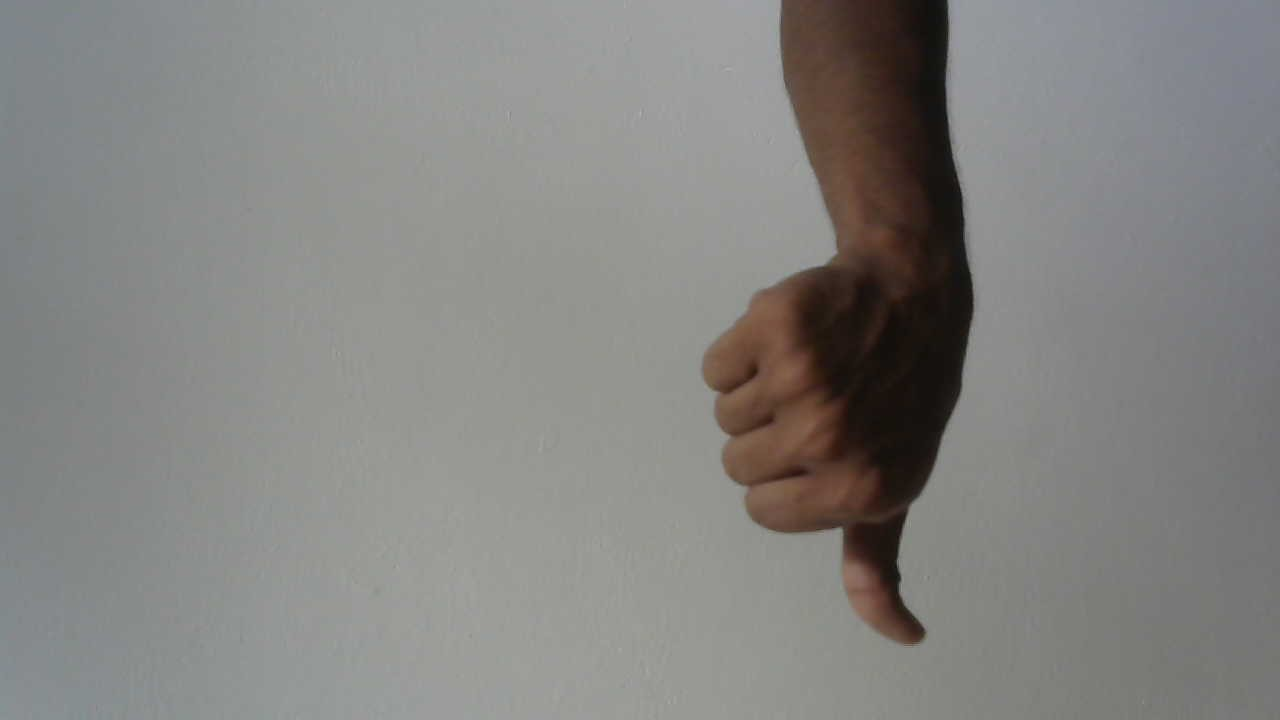thumbsdown: (696, 217, 996, 661)
